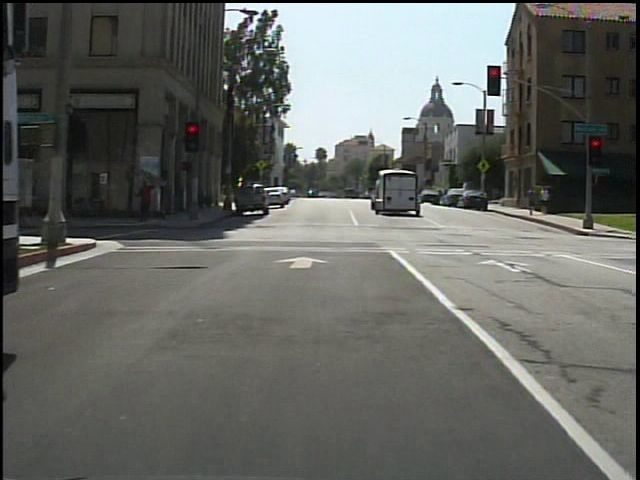person: (135, 175, 160, 223), (538, 186, 553, 217), (526, 184, 539, 218)
